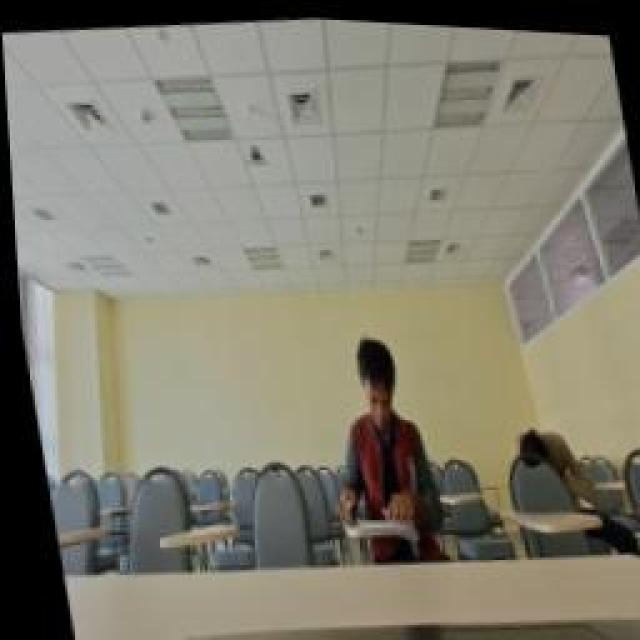sleep: (503, 410, 595, 512)
study: (305, 322, 443, 572)
